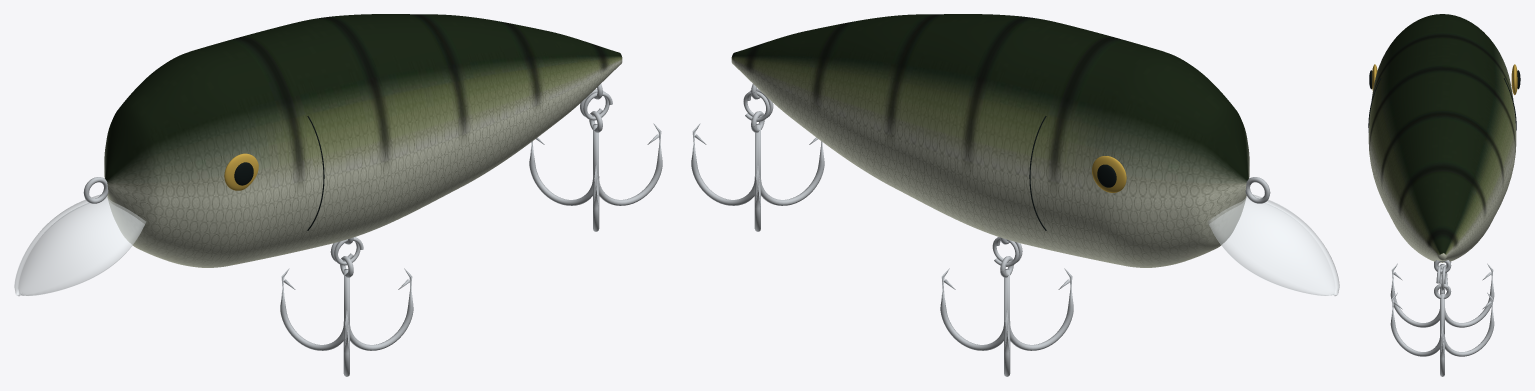
The model's file is crankbait.glb.
3 renders of one model, left to right at view 1: azimuth 30°, elevation 25°; view 2: azimuth 150°, elevation 25°; view 3: azimuth 270°, elevation 25°, orthographic. The views are drawn at different scales.
Visible parts, largest first — view 1: crankbait specimen; view 2: crankbait specimen; view 3: crankbait specimen.
Boxes of the visible parts, left/top/right/bottom form: crankbait specimen: left=14, top=14, right=662, bottom=376; crankbait specimen: left=691, top=14, right=1339, bottom=376; crankbait specimen: left=1368, top=14, right=1520, bottom=376.
Bounding box in the file's own units: 1.61 × 0.803 × 0.4221.
Materials: 5 (1 with a texture image).
